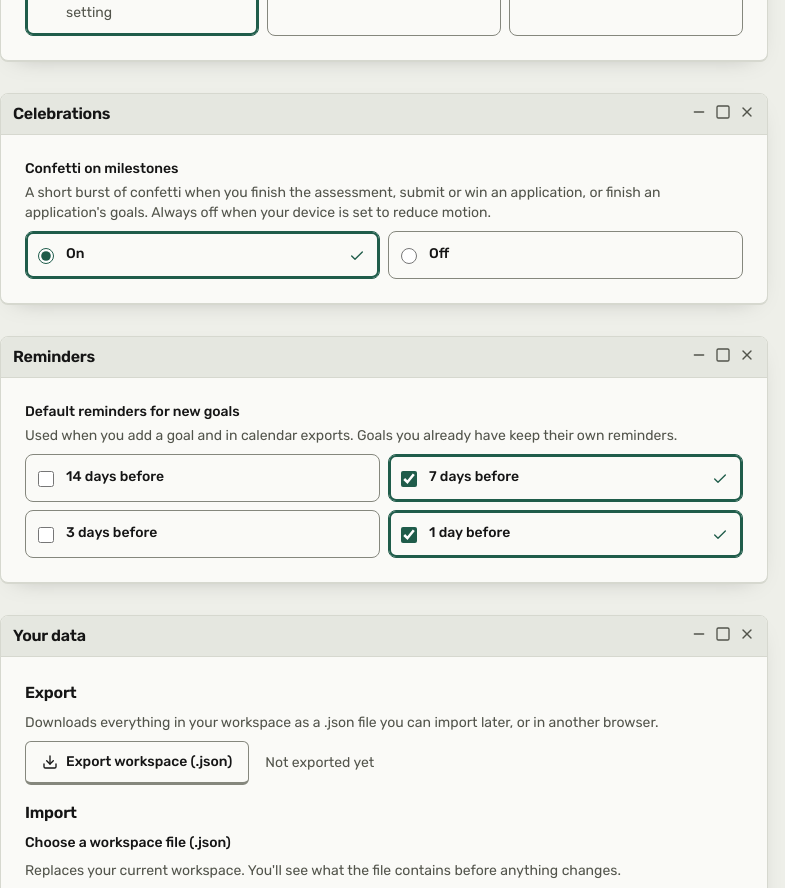
Test case: Settings › keeps at most 5 default reminders, counting ones from an imported file
(page scrolled)
Click the checkbox labelled "14 days before".
click(46, 479)  # box [38,471,54,487]
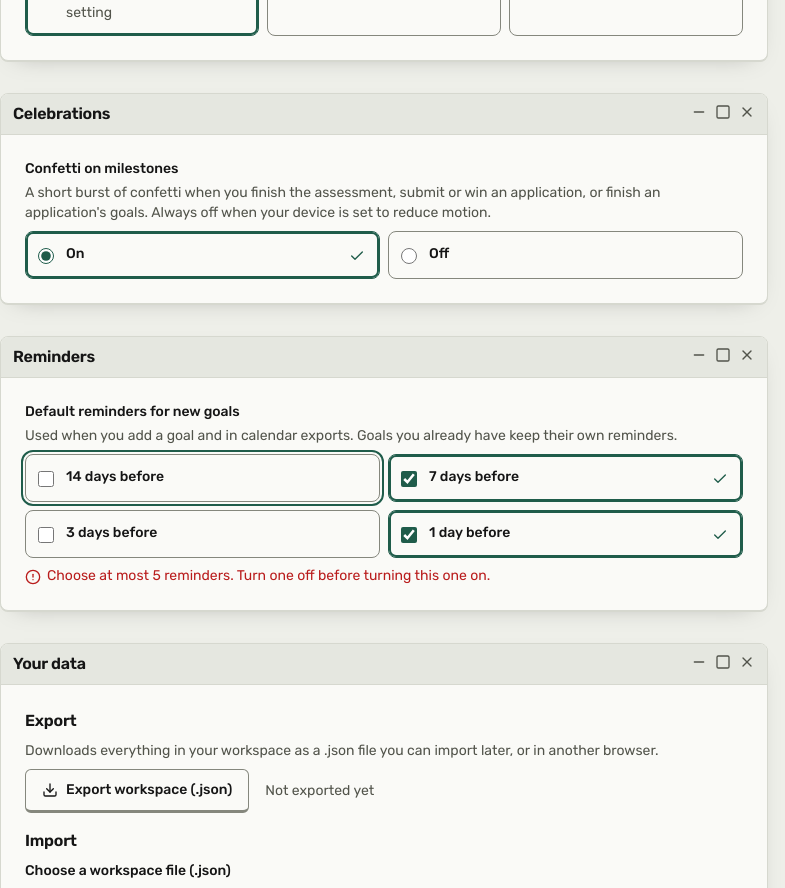
Expected: the text "at most 5 reminders" is shown, [47,567,490,584]
